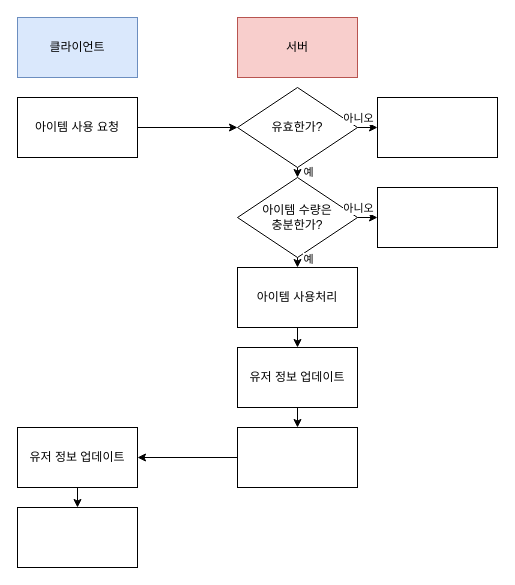
This 515x585 diagram has some shape labels left out. Each missing label, with the centre of its shape:
"아이템 부족 응답" goes at (437,217).
"아이템 사용 결과 UI 활성화" goes at (77,537).
"아이템 사용 결과 응답" goes at (297,457).
"인증 오류" goes at (437,127).
